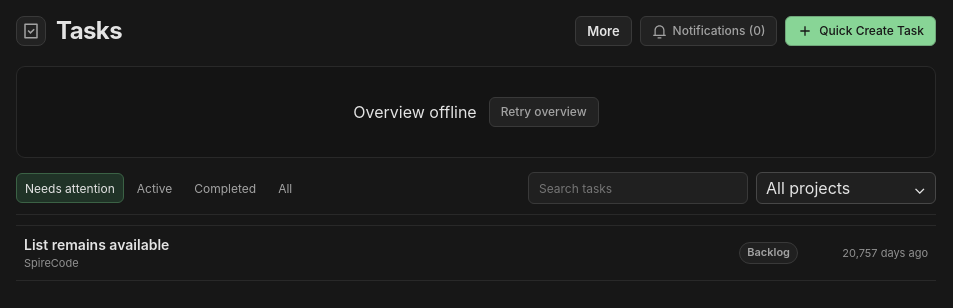
keeps dashboard failure independent from the list and recovers to an explicit empty state
Expected: the button "List remains available SpireCode Backlog 20,757 days ago" is shown, [16,226,936,280]
What coordinates should you click on to do the following:
click the button "Retry overview"
I would click on:
 (544, 112)
Its box is [489,97,599,127].
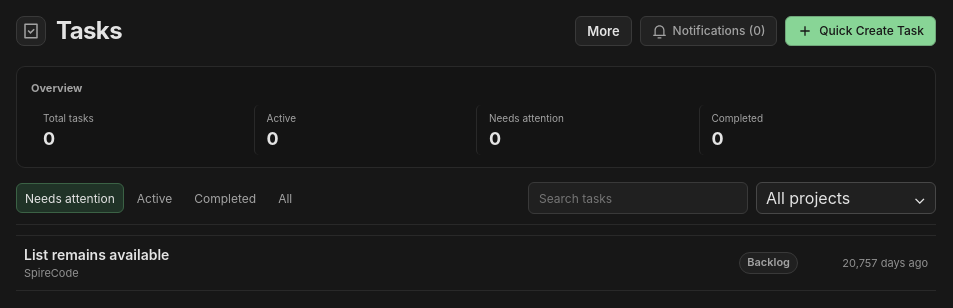
Now the number of elements with class "task-dashboard-metric" is 4, box [43,112,94,148]; [254,105,476,155]; [476,105,698,155]; [698,105,921,155]
Now the text "0" is shown 4 times, box [43,128,55,148]; [266,128,279,148]; [489,128,501,148]; [712,128,724,148]
